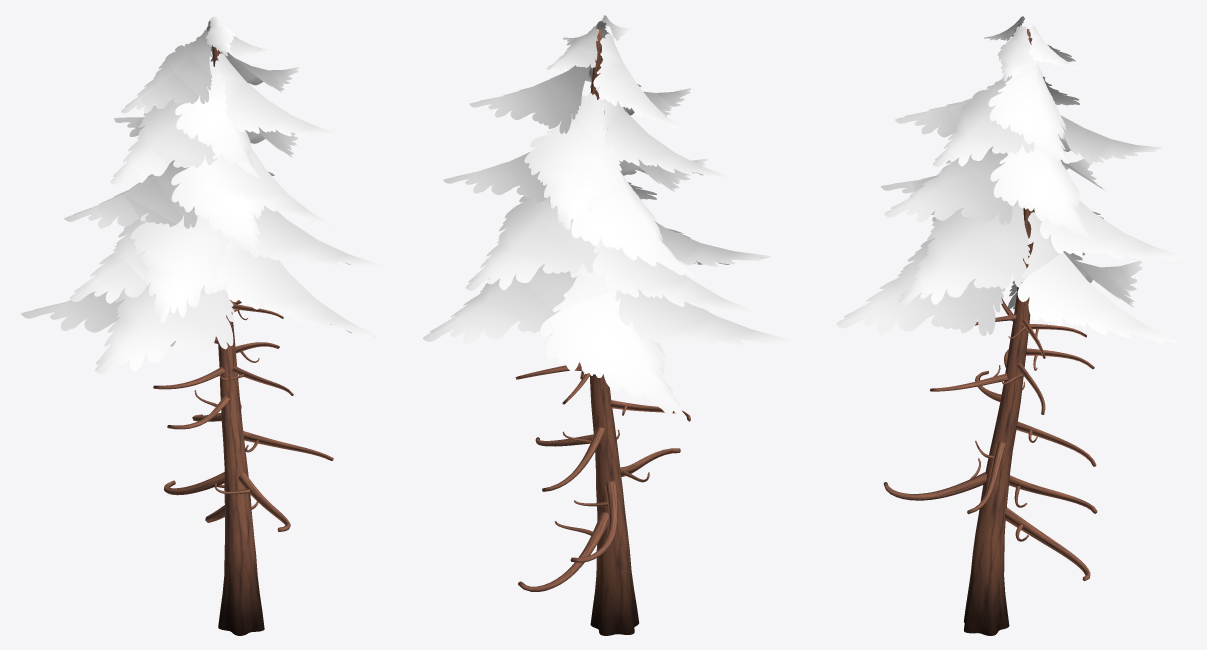
The model's file is Pine_3.gltf.
The picture shows the model from 3 angles, left to right: view 1: azimuth 30°, elevation 25°; view 2: azimuth 150°, elevation 25°; view 3: azimuth 270°, elevation 25°; orthographic projection. The views are drawn at different scales.
Visible parts, largest first — view 1: Pine_3; view 2: Pine_3; view 3: Pine_3.
Part boxes in pixels (x1,y1,x2,y2): Pine_3: [21, 16, 382, 635]; Pine_3: [423, 15, 794, 635]; Pine_3: [836, 16, 1186, 635].
Bounding box in the file's own units: 3.61 × 7.39 × 4.
Materials: 2 (2 with a texture image).
